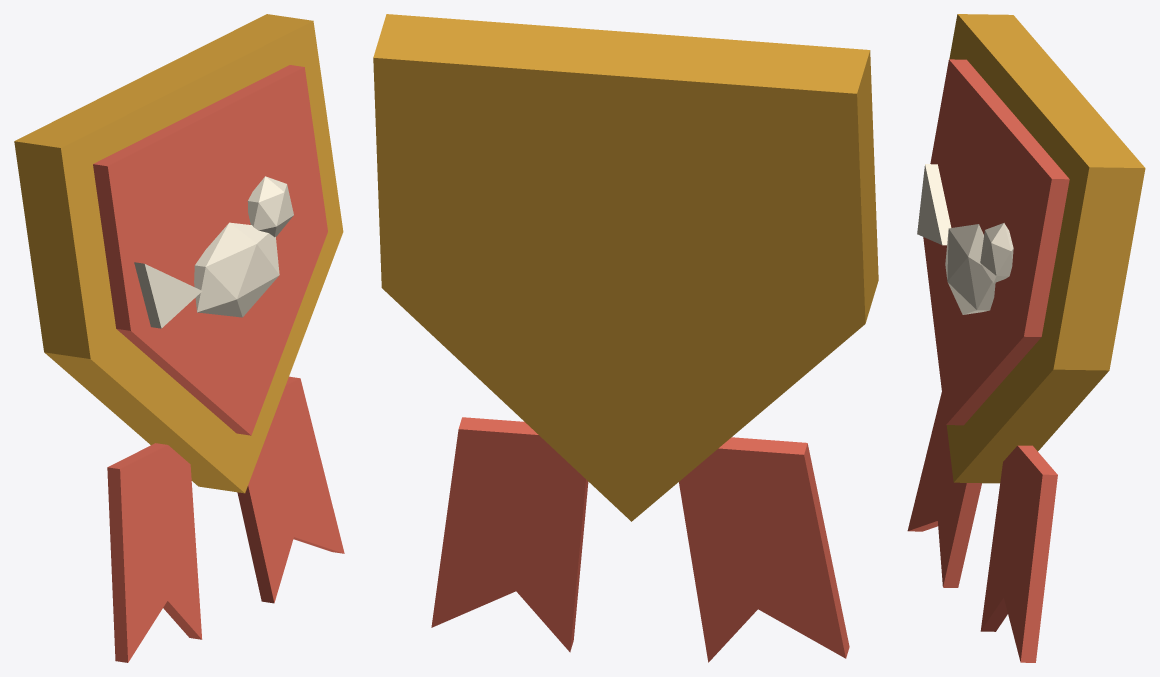
The model's file is team_badge.glb.
3 views of the same model, side by side, from view 1: azimuth 30°, elevation 25°; view 2: azimuth 150°, elevation 25°; view 3: azimuth 270°, elevation 25° (orthographic). The views are drawn at different scales.
Visible parts, largest first — view 1: team_badge; view 2: team_badge; view 3: team_badge.
Boxes of the visible parts, box(x1,y1,x2,y2) form: team_badge: box(14, 14, 344, 662); team_badge: box(373, 14, 878, 662); team_badge: box(907, 14, 1145, 662).
Bounding box in the file's own units: 0.1725 × 0.246 × 0.1036.
